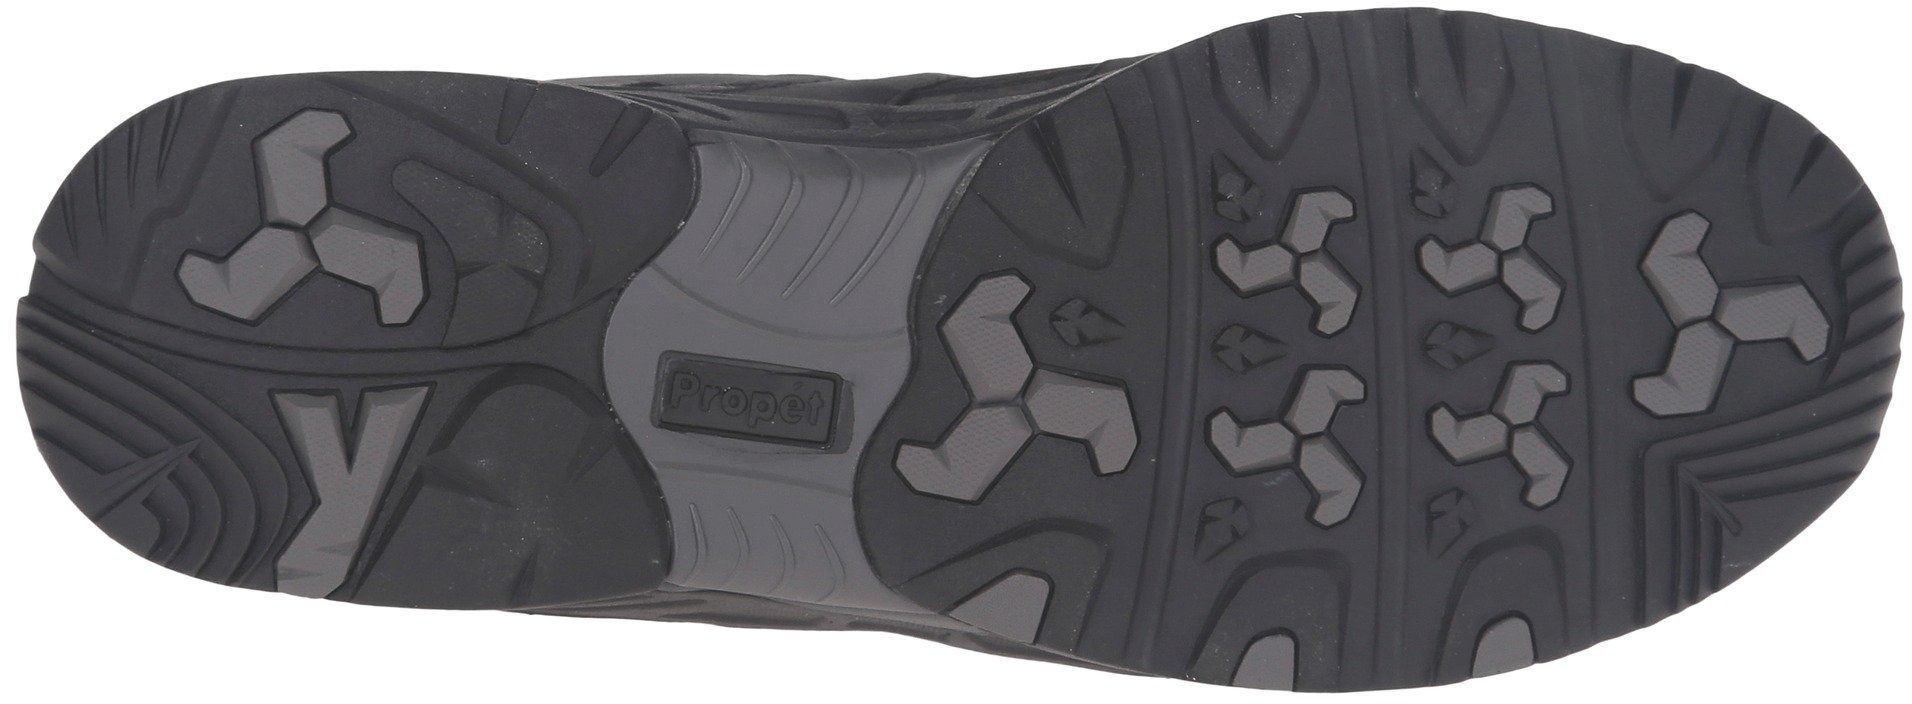chevron: (893, 259, 1152, 523), (1614, 200, 1836, 428), (1422, 351, 1590, 516), (1212, 185, 1369, 342), (293, 196, 441, 337), (173, 207, 315, 344), (228, 102, 369, 237), (940, 271, 1036, 400), (1711, 275, 1833, 366)
line: (658, 466, 922, 606), (765, 179, 916, 317), (102, 375, 237, 514), (704, 497, 819, 603)
quad: (646, 314, 850, 492), (1195, 521, 1360, 681)
star: (893, 259, 1152, 523), (1614, 200, 1836, 428), (1422, 351, 1590, 516), (1212, 185, 1369, 342)
text: (661, 354, 755, 437), (750, 364, 839, 445)
triangle: (354, 303, 662, 602), (989, 113, 1157, 278), (1388, 31, 1557, 181)
